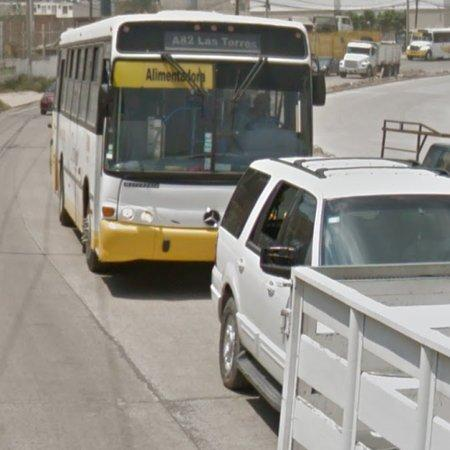buses: (50, 10, 325, 272)
